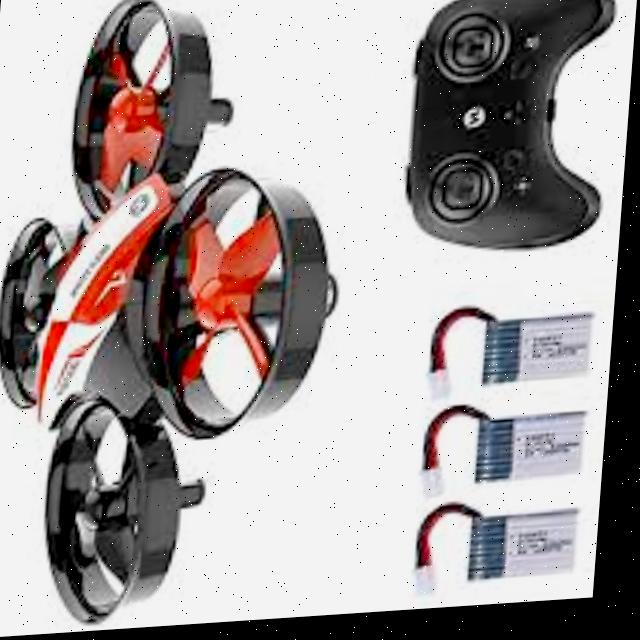drone: (0, 0, 364, 640)
